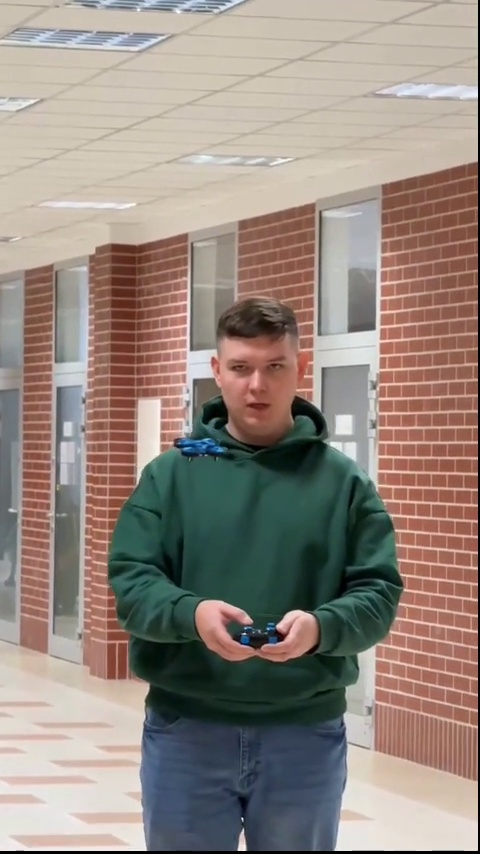drone: (175, 434, 229, 458)
no vest: (125, 300, 395, 832)
